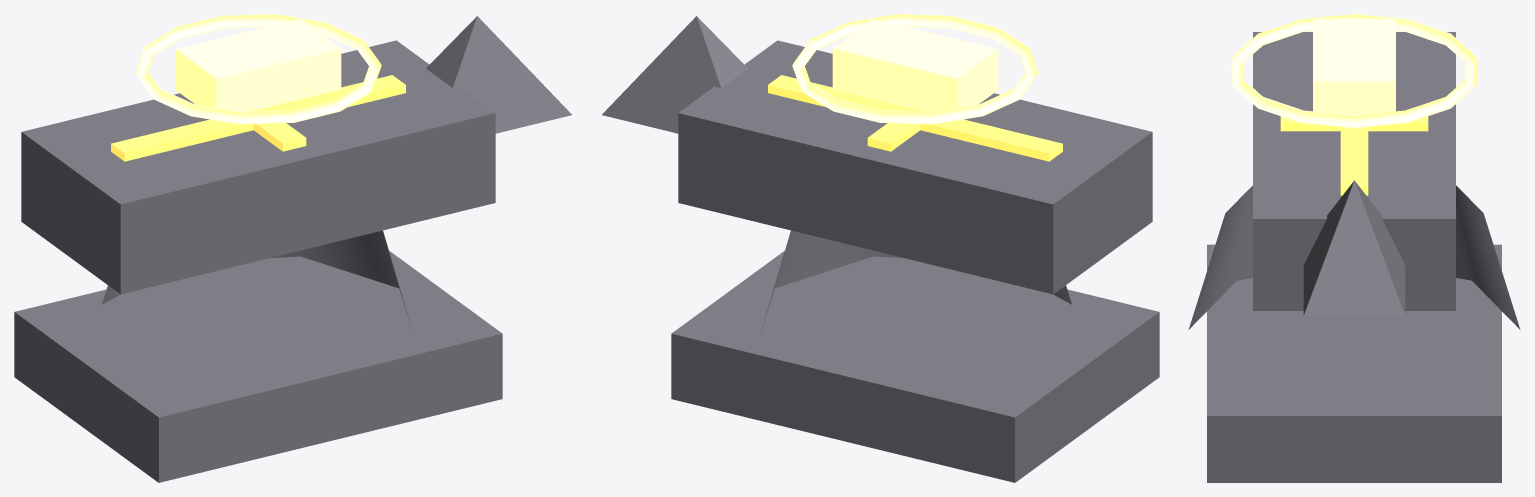
File: primordial_anvil_forge.glb
The picture shows the model from 3 angles, left to right: view 1: azimuth 30°, elevation 25°; view 2: azimuth 150°, elevation 25°; view 3: azimuth 270°, elevation 25°; orthographic projection. The views are drawn at different scales.
Parts seen in each view (by area): view 1: RootNode; view 2: RootNode; view 3: RootNode.
Part boxes in pixels (x1,y1,x2,y2): RootNode: [14, 14, 571, 482]; RootNode: [602, 14, 1159, 482]; RootNode: [1188, 14, 1520, 482].
Bounding box in the file's own units: 3.05 × 2.08 × 1.8.
